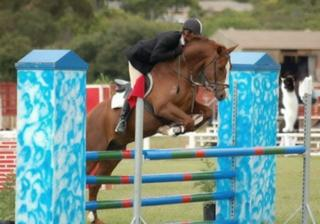cat: (279, 77, 298, 132)
horse: (86, 36, 239, 224)
person: (115, 19, 203, 136)
